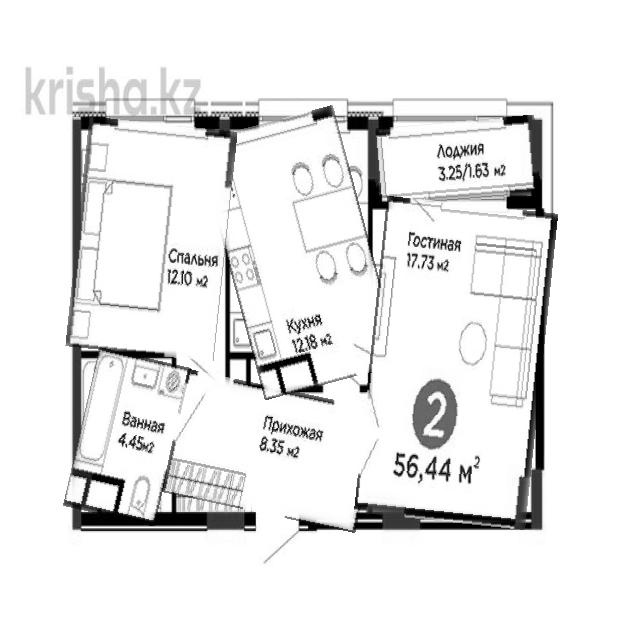balcony: (373, 119, 539, 205)
bathroom: (72, 351, 182, 522)
hallway: (168, 379, 376, 524)
kitchen: (212, 112, 386, 394)
living_room: (362, 200, 550, 526), (71, 120, 232, 358)
